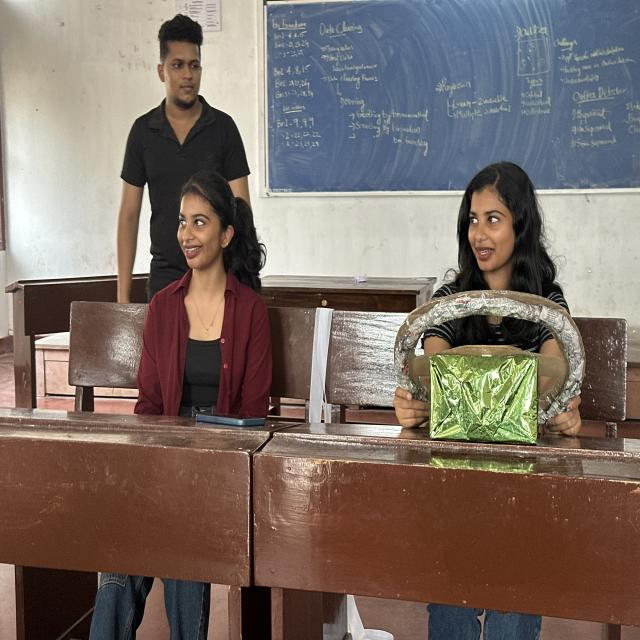no-seatbelt: (410, 246, 583, 463), (150, 276, 298, 495)
